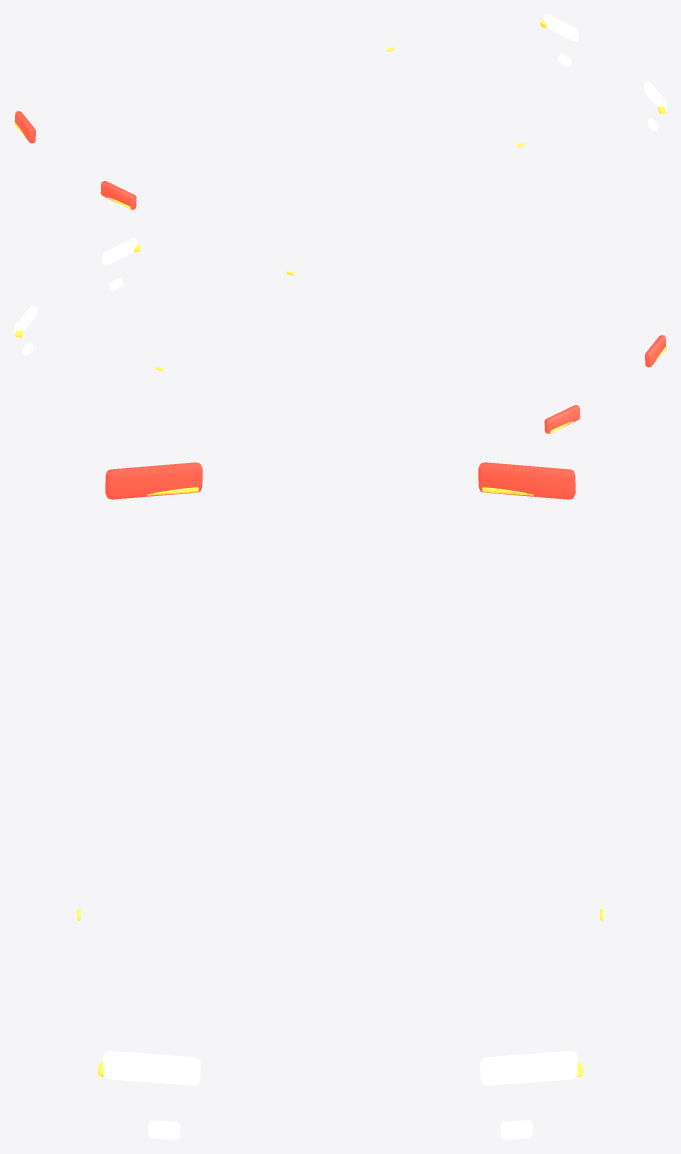
Rendered from Lights.glb.
3 views of the same model, one above another, from view 1: azimuth 30°, elevation 25°; view 2: azimuth 150°, elevation 25°; view 3: azimuth 270°, elevation 25° (orthographic). The views are drawn at different scales.
Parts seen in each view (by area): view 1: Lights; view 2: Lights; view 3: Lights.
Boxes of the visible parts, bbox=[...] form: Lights: bbox=[14, 14, 666, 209]; Lights: bbox=[14, 238, 666, 433]; Lights: bbox=[77, 462, 603, 1139].
Size of the model in its own units: 4.39 by 0.5628 by 1.82.
